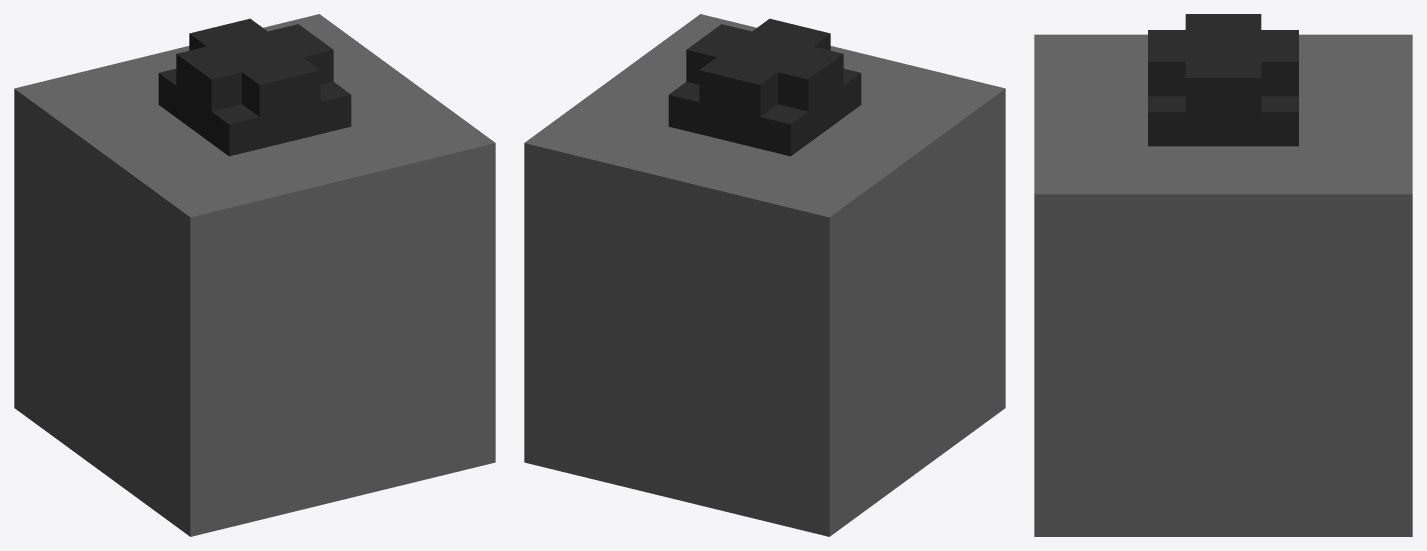
The model's file is Block.obj.
3 renders of one model, left to right at view 1: azimuth 30°, elevation 25°; view 2: azimuth 150°, elevation 25°; view 3: azimuth 270°, elevation 25°, orthographic. The views are drawn at different scales.
Bounding box in the file's own units: 1 × 1.2 × 1.
